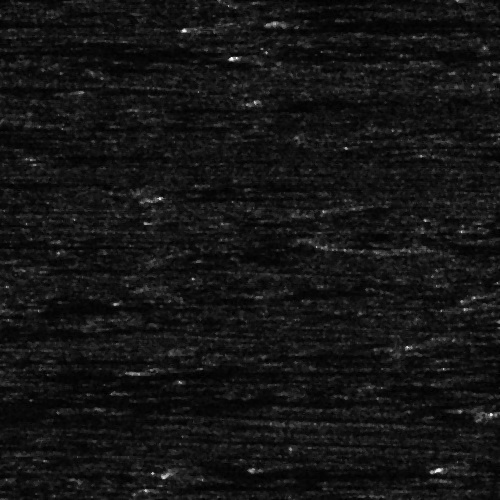object: (0, 294, 59, 315), (138, 464, 231, 477), (234, 95, 297, 106), (6, 152, 59, 159), (0, 392, 15, 411), (147, 194, 178, 197)
shadow: (0, 392, 453, 411), (22, 294, 336, 315), (185, 464, 444, 477), (266, 95, 427, 106), (0, 465, 83, 478), (33, 152, 185, 159), (0, 20, 69, 31), (0, 79, 55, 90), (0, 48, 193, 51), (0, 241, 113, 246), (163, 194, 320, 197)
